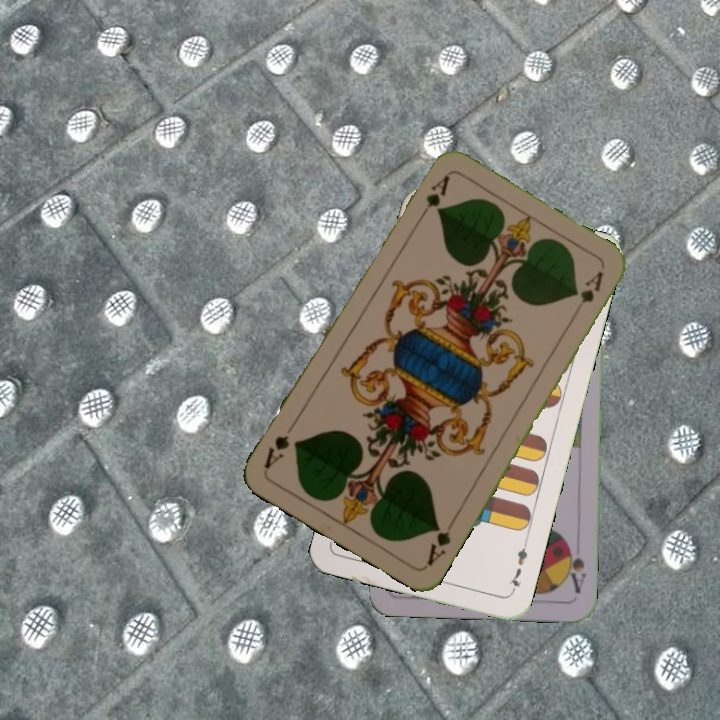E7: (505, 537, 531, 596)
GA: (414, 171, 453, 224), (423, 514, 457, 568)
SA: (562, 538, 589, 596)
